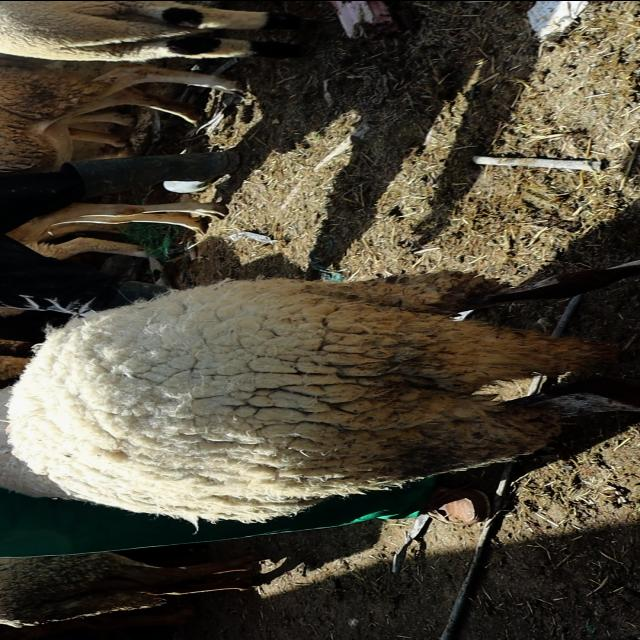Score_3: (0, 261, 639, 523)
